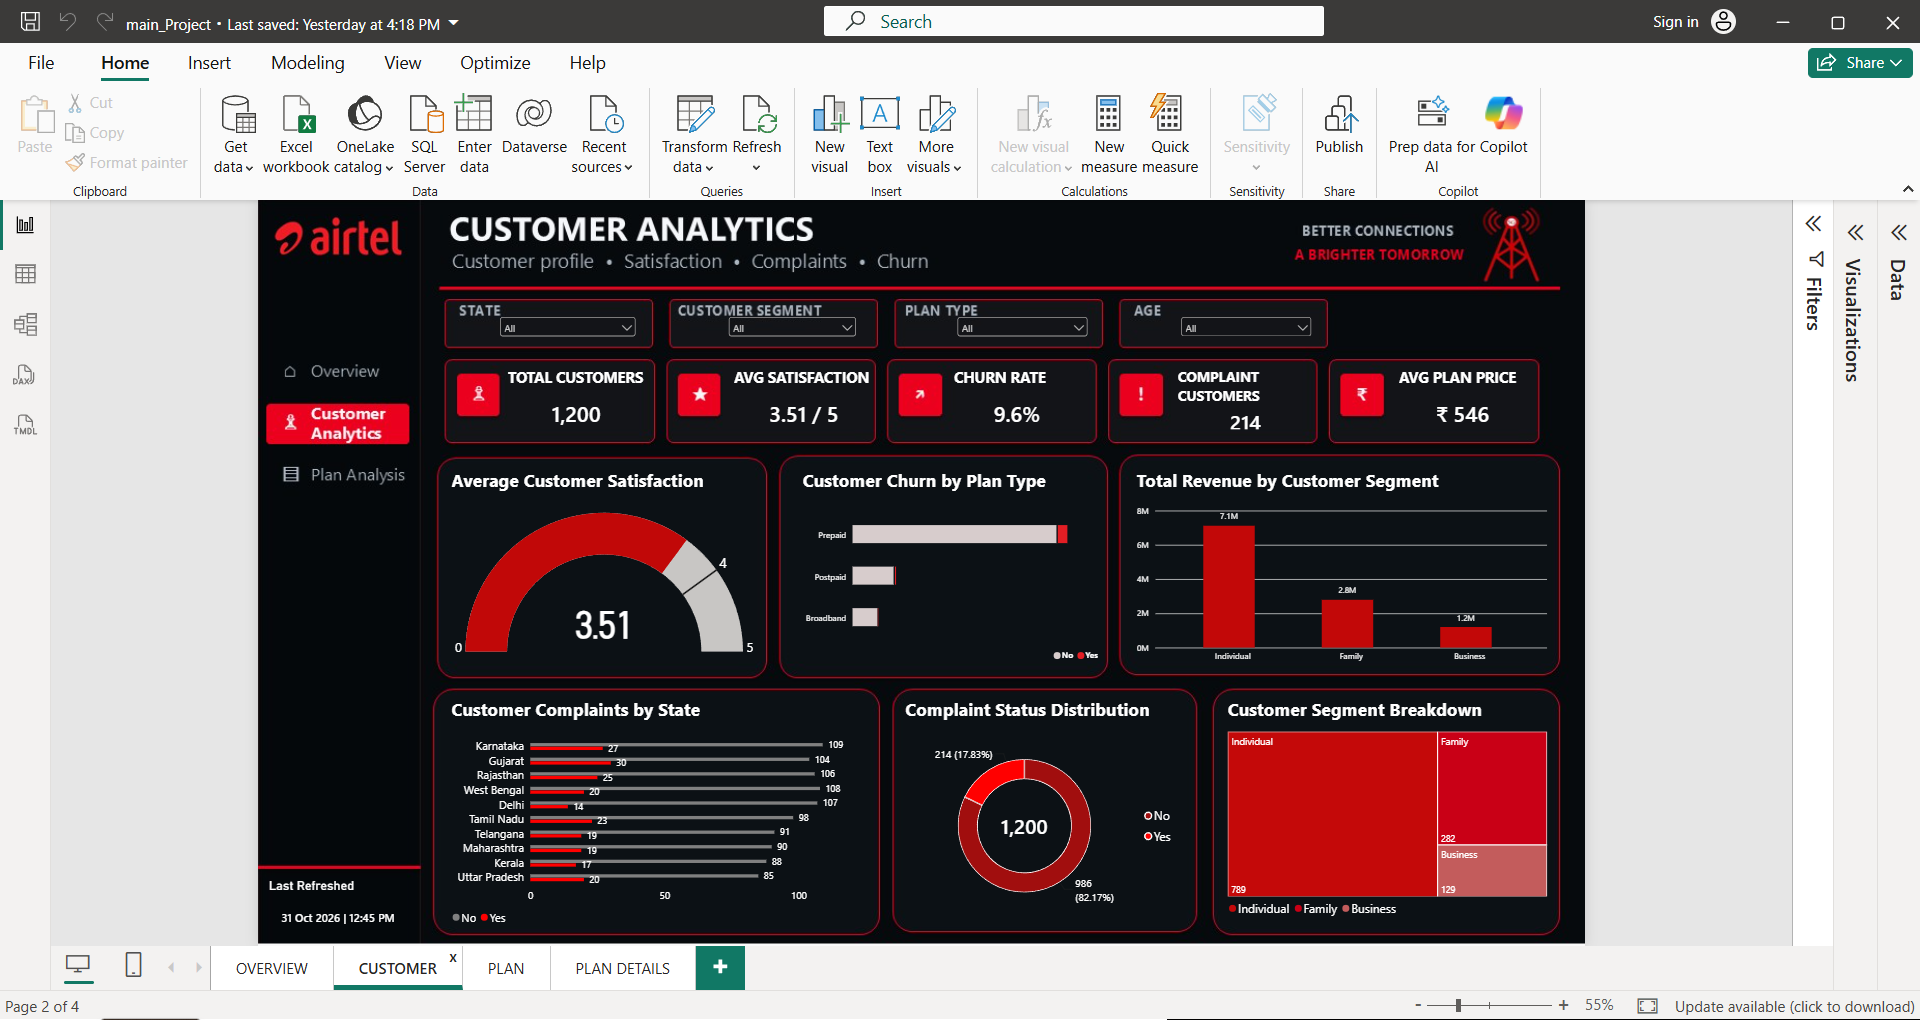

This screenshot's page, from the dashboard's own definition file:
{"tool":"powerbi","page":{"name":"CUSTOMER","canvas":[1920,1080],"ordinal":1},"visuals":[{"type":"slicer","fields":{"Values":["customer_analy.State"]},"box":[346,164,206,64],"z":0},{"type":"slicer","fields":{"Values":["customer_analy.Customer_Segment"]},"box":[676,164,194,64],"z":1000},{"type":"slicer","fields":{"Values":["customer_analy.Plan_Type"]},"box":[1008,164,198,64],"z":2000},{"type":"slicer","fields":{"Values":["customer_analy.Age"]},"box":[1332,164,198,32],"z":3000},{"type":"card","title":"TOTAL CUSTOMERS","fields":{"Values":["calculated_table.total_customers"]},"box":[346,228,230,120],"z":4000},{"type":"card","title":"AVG PLAN PRICE","fields":{"Values":["calculated_table.avg_plan_price"]},"box":[1636,228,216,120],"z":5000},{"type":"card","title":"COMPLAINT CUSTOMERS","fields":{"Values":["calculated_table.complaint_customers"]},"box":[1316,228,228,120],"z":6000},{"type":"card","title":"CHURN RATE","fields":{"Values":["calculated_table.churn_Rate_%"]},"box":[992,228,214,120],"z":7000},{"type":"card","title":"AVG SATISFACTION","fields":{"Values":["calculated_table.avg_bar_Satis_display"]},"box":[674,228,234,120],"z":8000},{"type":"treemap","title":"Customer Segment Breakdown","fields":{"Group":["customer_analy.Customer_Segment"],"Values":["Count(customer_analy.Customer_ID)"]},"box":[1388,706,494,352],"z":9000},{"type":"clusteredBarChart","title":"Customer Complaints by State","fields":{"Category":["customer_analy.State"],"Series":["customer_analy.Complaint_Registered"],"Y":["CountNonNull(customer_analy.Customer_ID)"]},"box":[264,706,624,364],"z":10000},{"type":"barChart","title":"Customer Churn by Plan Type","fields":{"Category":["customer_analy.Plan_Type"],"Series":["customer_analy.Churn_Flag"],"Y":["calculated_table.total_customers"]},"box":[772,374,464,314],"z":11000},{"type":"clusteredColumnChart","title":"Total Revenue by Customer Segment","fields":{"Category":["customer_analy.Customer_Segment"],"Y":["Sum(Monthly_Revenue.Revenue_INR)"]},"box":[1256,374,626,314],"z":12000},{"type":"donutChart","title":"Complaint Status Distribution","fields":{"Category":["customer_analy.Complaint_Registered"],"Y":["Count(customer_analy.Customer_ID)"]},"box":[922,706,426,352],"z":13000},{"type":"gauge","title":"Average Customer Satisfaction","fields":{"MaxValue":["calculated_table.guage_max"],"MinValue":["calculated_table.guage_min"],"TargetValue":["calculated_table.guage target"],"Y":["calculated_table.average_satisfaction"]},"box":[264,374,474,314],"z":14000},{"type":"card","title":"Last Refreshed","fields":{"Values":["calculated_table.Last Refreshed"]},"box":[0,968,232,112],"z":15000}]}

Visuals, with their boxes on the page's 1920x1080 design canvas (x1, y1, x2, y2). These are canvas units, not pixel positions in the 1920x1020 screenshot, which may show the page scaled, cropped or inside an application window:
slicer - customer_analy.State: left=346, top=164, right=552, bottom=228
slicer - customer_analy.Customer_Segment: left=676, top=164, right=870, bottom=228
slicer - customer_analy.Plan_Type: left=1008, top=164, right=1206, bottom=228
slicer - customer_analy.Age: left=1332, top=164, right=1530, bottom=196
"TOTAL CUSTOMERS" card: left=346, top=228, right=576, bottom=348
"AVG PLAN PRICE" card: left=1636, top=228, right=1852, bottom=348
"COMPLAINT CUSTOMERS" card: left=1316, top=228, right=1544, bottom=348
"CHURN RATE" card: left=992, top=228, right=1206, bottom=348
"AVG SATISFACTION" card: left=674, top=228, right=908, bottom=348
"Customer Segment Breakdown" treemap: left=1388, top=706, right=1882, bottom=1058
"Customer Complaints by State" clusteredBarChart: left=264, top=706, right=888, bottom=1070
"Customer Churn by Plan Type" barChart: left=772, top=374, right=1236, bottom=688
"Total Revenue by Customer Segment" clusteredColumnChart: left=1256, top=374, right=1882, bottom=688
"Complaint Status Distribution" donutChart: left=922, top=706, right=1348, bottom=1058
"Average Customer Satisfaction" gauge: left=264, top=374, right=738, bottom=688
"Last Refreshed" card: left=0, top=968, right=232, bottom=1080
